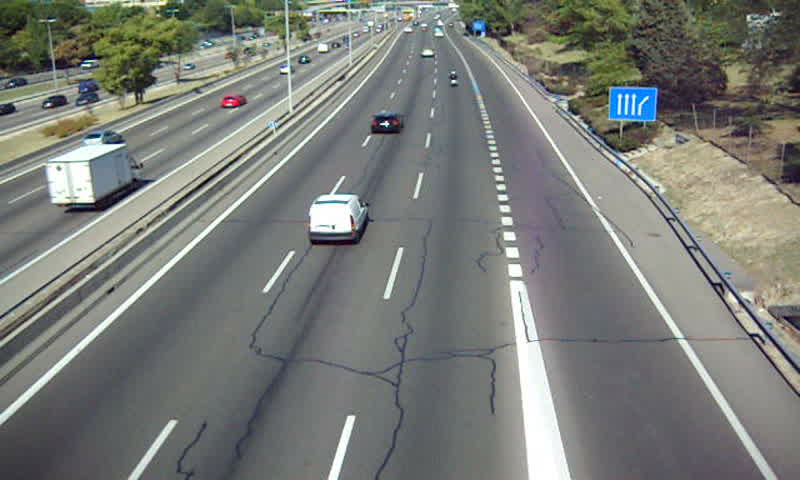car: (370, 113, 404, 135)
motorcycle: (448, 70, 460, 88)
van: (307, 194, 370, 244)
